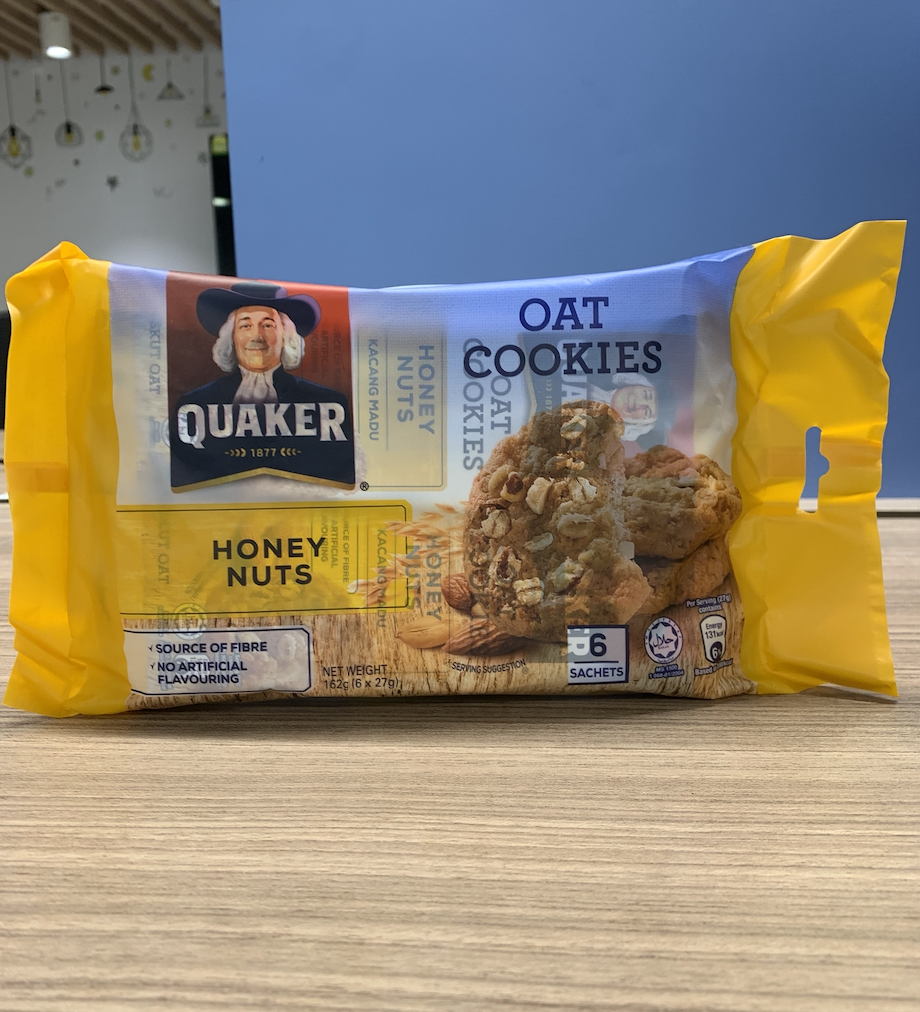cookies_100g-199g: (69, 280, 821, 689)
